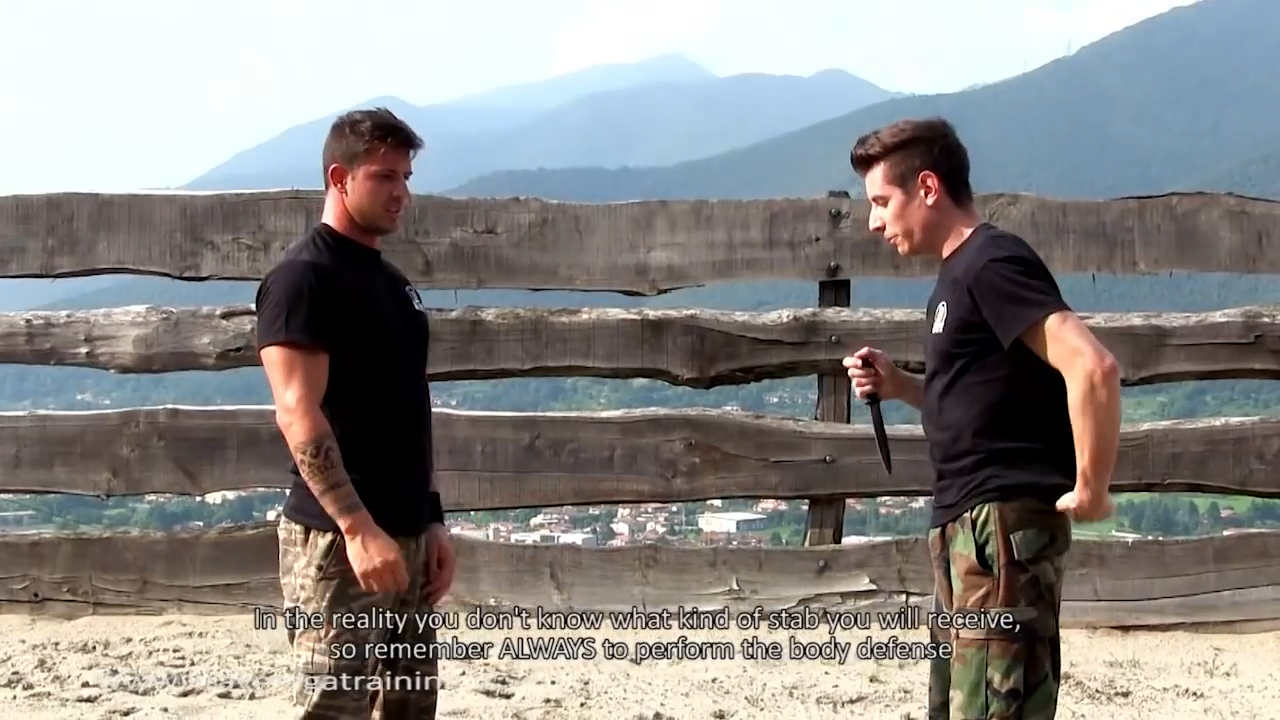knife: (836, 340, 899, 479)
